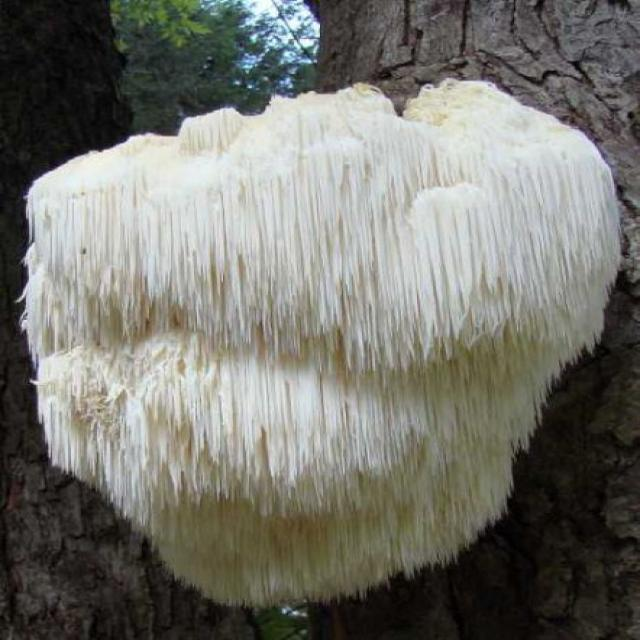Hericium erinaceus: (23, 77, 620, 608)
